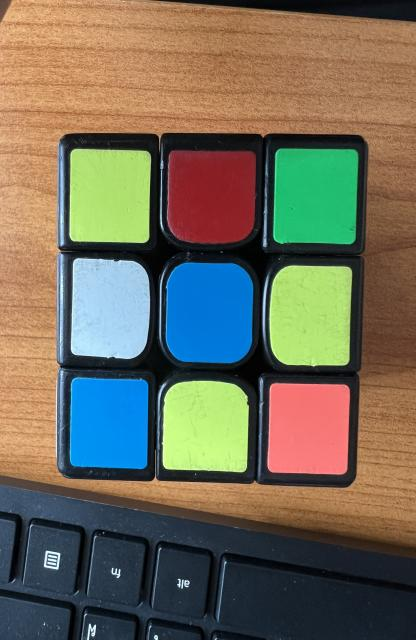Blue: (166, 262, 254, 364), (70, 378, 148, 469)
Green: (273, 149, 359, 244)
Orange: (268, 382, 350, 475)
Red: (167, 150, 257, 244)
White: (70, 259, 151, 359)
Yellow: (270, 265, 352, 366), (162, 380, 249, 472), (69, 149, 152, 242)
